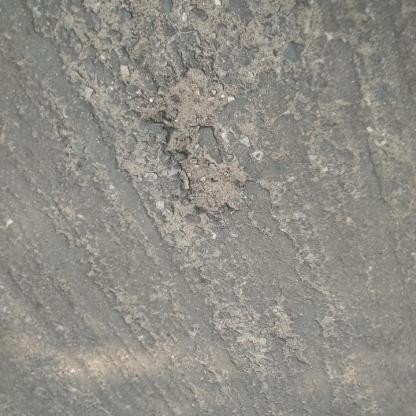pothole: (149, 70, 244, 217)
